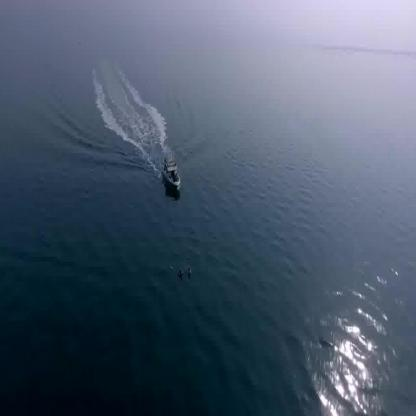Boat: (163, 156, 181, 201)
